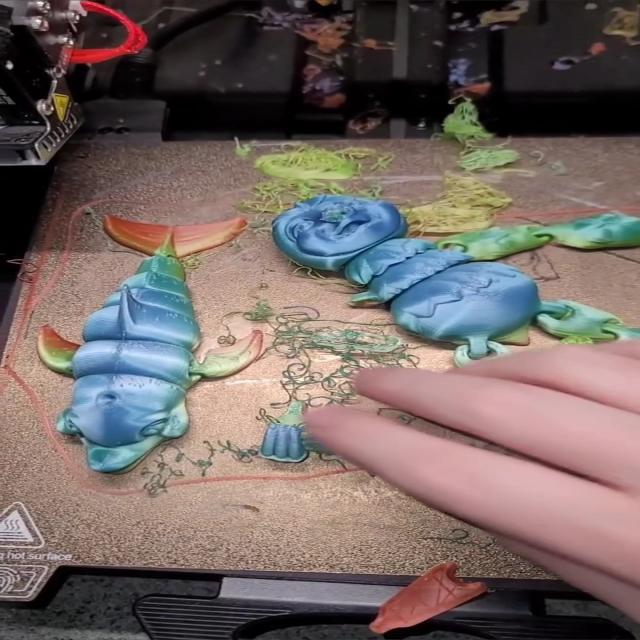spaghetti: (225, 88, 516, 228), (252, 308, 404, 456), (538, 351, 616, 470)
